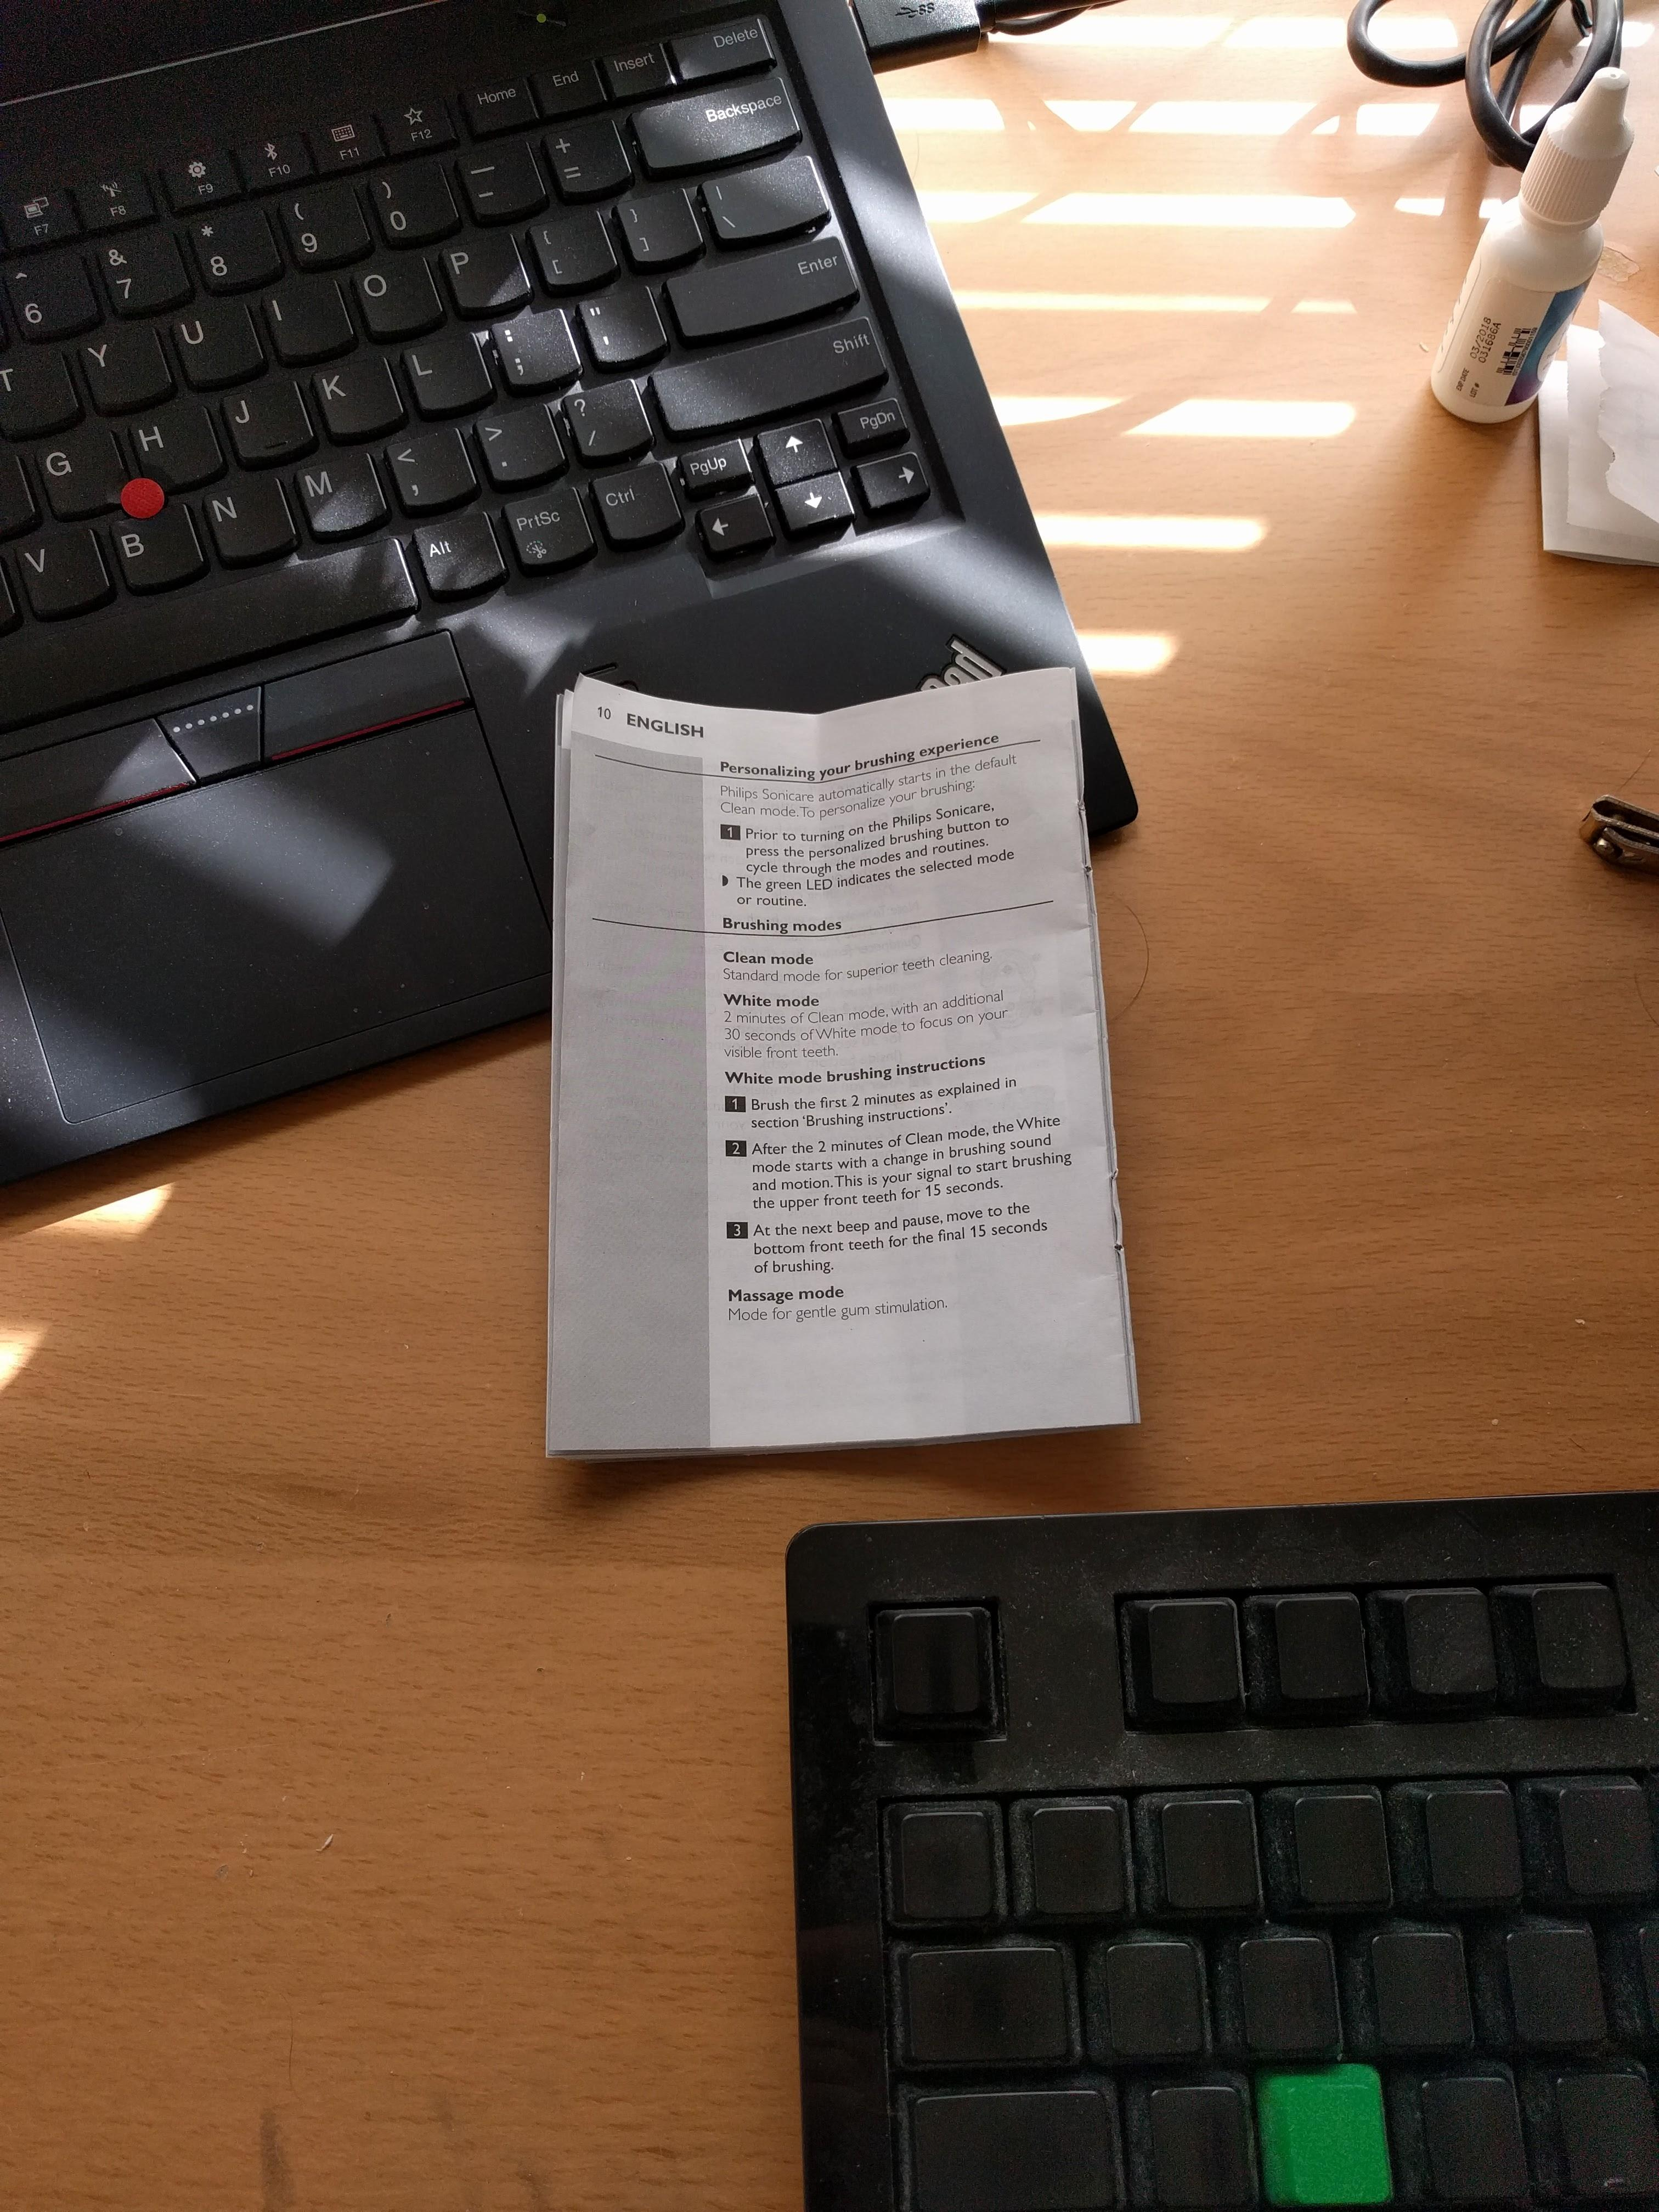paper: (125, 280, 1581, 1857)
